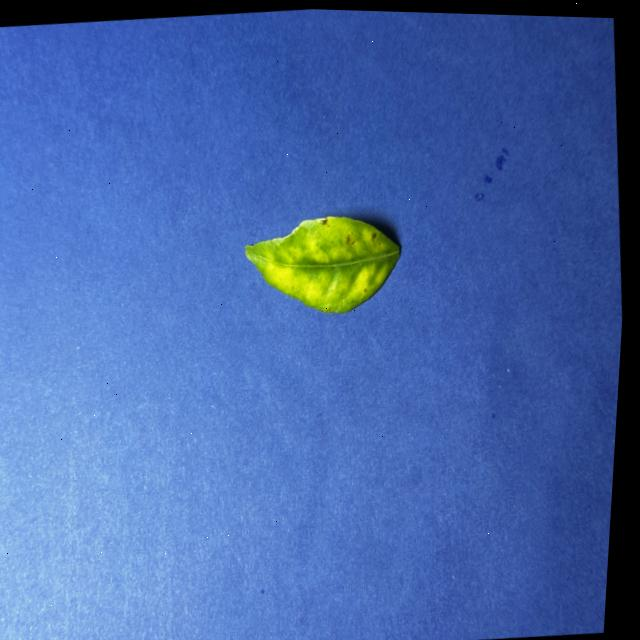greening: (244, 216, 399, 312)
